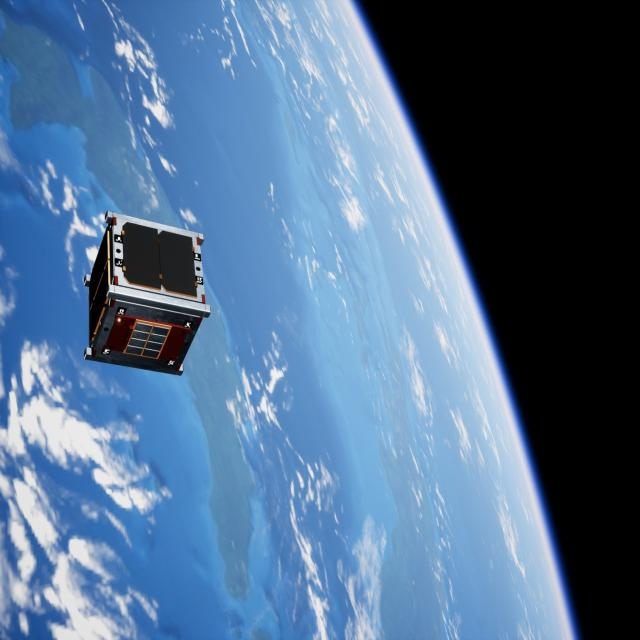medium_debris: (82, 208, 210, 383)
